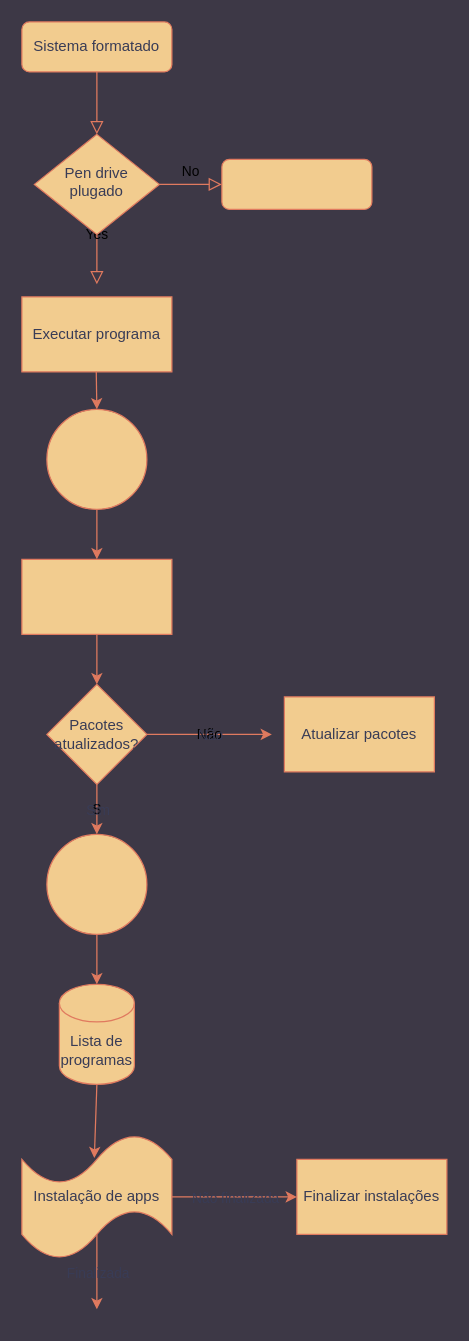
Some shapes in this 469 by 1341 pixel diagram are drawn without their labels. Each missing label, with the box of its shape:
Executar verificação e atualização de pacotes.: (21, 558, 172, 634)
Instalação de pacotes: (46, 833, 147, 934)
Plugar pen drive: (221, 158, 372, 209)
Programa: (46, 408, 147, 509)
